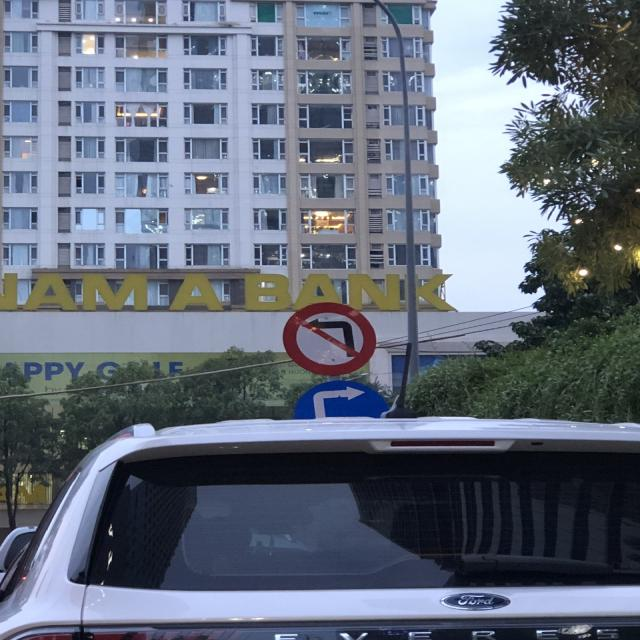Bien bao cam re trai: (280, 300, 389, 382)
